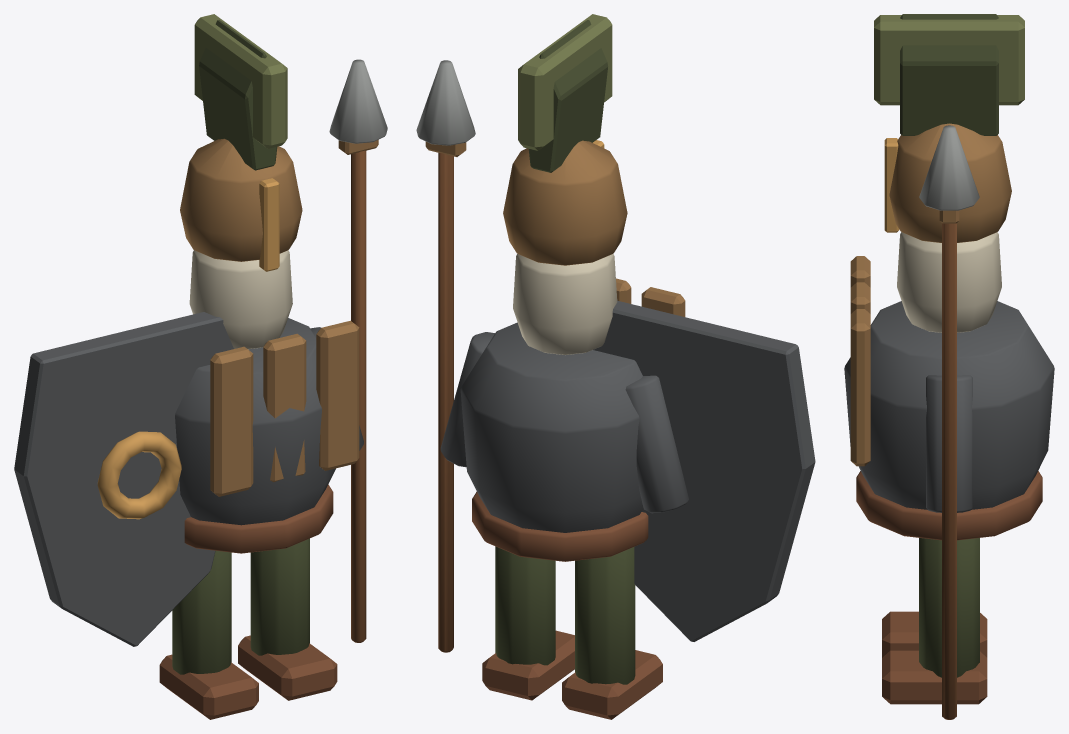
The model's file is enemy_armored_centurion.glb.
3 views of the same model, side by side, from view 1: azimuth 30°, elevation 25°; view 2: azimuth 150°, elevation 25°; view 3: azimuth 270°, elevation 25° (orthographic).
Parts seen in each view (by area): view 1: CENTURION__shield, CENTURION__torso, CENTURION__helmet, CENTURION__head, CENTURION__spear, CENTURION__leg_1, CENTURION__lorica.001, CENTURION__lorica, CENTURION__leg_-1, CENTURION__crest, CENTURION__plume, CENTURION__belt (+6 smaller); view 2: CENTURION__shield, CENTURION__torso, CENTURION__helmet, CENTURION__head, CENTURION__leg_-1, CENTURION__spear, CENTURION__leg_1, CENTURION__crest, CENTURION__plume, CENTURION__belt, CENTURION__arm_-1, CENTURION__boot_-1 (+4 smaller); view 3: CENTURION__torso, CENTURION__plume, CENTURION__helmet, CENTURION__head, CENTURION__spear, CENTURION__crest, CENTURION__leg_1, CENTURION__belt, CENTURION__arm_1, CENTURION__boot_1, CENTURION__spear__head, CENTURION__lorica (+4 smaller).
Part boxes in pixels (<box>): CENTURION__shield: <box>14,312,233,646</box>; CENTURION__torso: <box>175,318,335,525</box>; CENTURION__helmet: <box>180,138,302,261</box>; CENTURION__head: <box>189,250,292,349</box>; CENTURION__spear: <box>351,150,366,642</box>; CENTURION__leg_1: <box>250,538,309,655</box>; CENTURION__lorica.001: <box>210,346,253,496</box>; CENTURION__lorica: <box>316,320,359,470</box>; CENTURION__leg_-1: <box>172,550,231,674</box>; CENTURION__crest: <box>194,14,287,148</box>; CENTURION__plume: <box>199,20,277,170</box>; CENTURION__belt: <box>184,484,333,553</box>; CENTURION__shield: <box>593,300,815,641</box>; CENTURION__torso: <box>460,322,643,532</box>; CENTURION__helmet: <box>503,140,627,265</box>; CENTURION__head: <box>513,254,617,355</box>; CENTURION__leg_-1: <box>575,547,635,684</box>; CENTURION__spear: <box>438,153,453,652</box>; CENTURION__leg_1: <box>495,546,555,665</box>; CENTURION__crest: <box>518,14,612,150</box>; CENTURION__plume: <box>528,20,607,172</box>; CENTURION__belt: <box>472,491,648,561</box>; CENTURION__arm_-1: <box>625,375,688,513</box>; CENTURION__boot_-1: <box>562,650,662,719</box>; CENTURION__torso: <box>844,301,1054,509</box>; CENTURION__plume: <box>900,14,998,135</box>; CENTURION__helmet: <box>889,123,1011,242</box>; CENTURION__head: <box>897,232,1001,332</box>; CENTURION__spear: <box>942,223,956,719</box>; CENTURION__crest: <box>874,15,1024,105</box>; CENTURION__leg_1: <box>919,538,979,677</box>; CENTURION__belt: <box>856,471,1042,540</box>; CENTURION__arm_1: <box>926,375,972,512</box>; CENTURION__boot_1: <box>882,650,987,704</box>; CENTURION__spear__head: <box>919,125,979,210</box>; CENTURION__lorica: <box>850,309,870,466</box>.
Size of the model in its own units: 1.34 by 2.21 by 0.6393.
